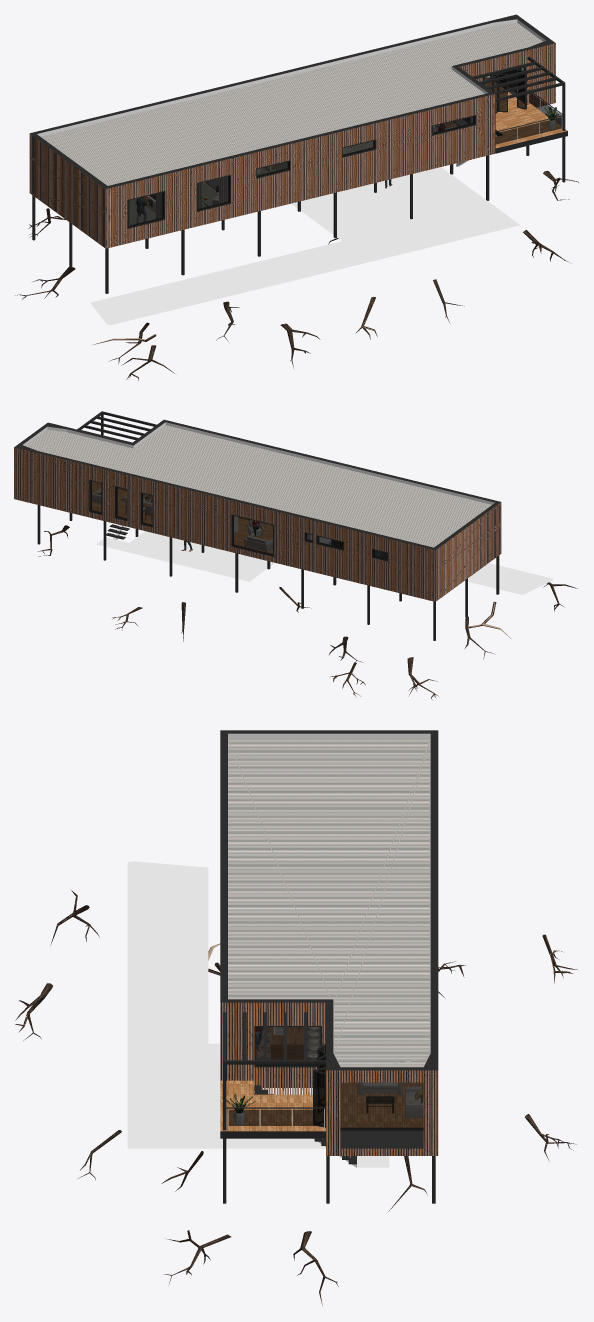
File: modular_house_cube_3_by_swanbuild_australia.glb
3 renders of one model, top to bottom at view 1: azimuth 30°, elevation 25°; view 2: azimuth 150°, elevation 25°; view 3: azimuth 270°, elevation 25°, orthographic. The views are drawn at different scales.
Visible parts, largest first — view 1: FF, GF; view 2: FF, GF; view 3: FF, GF.
Boxes of the visible parts, box(x1,y1,x2,y2) form: FF: box(29, 14, 565, 225); GF: box(15, 67, 578, 380); FF: box(14, 411, 501, 570); GF: box(14, 426, 577, 700); FF: box(220, 730, 438, 1104); GF: box(15, 861, 577, 1305).
Size of what is drawn, in the model's own units: 0.2611 by 0.0958 by 0.1658.
Materials: 54 (33 with a texture image).
